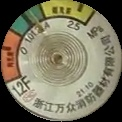green: (11, 6, 46, 34)
needle: (29, 9, 50, 39)
red: (1, 31, 25, 84)
yellow: (41, 1, 96, 25)
